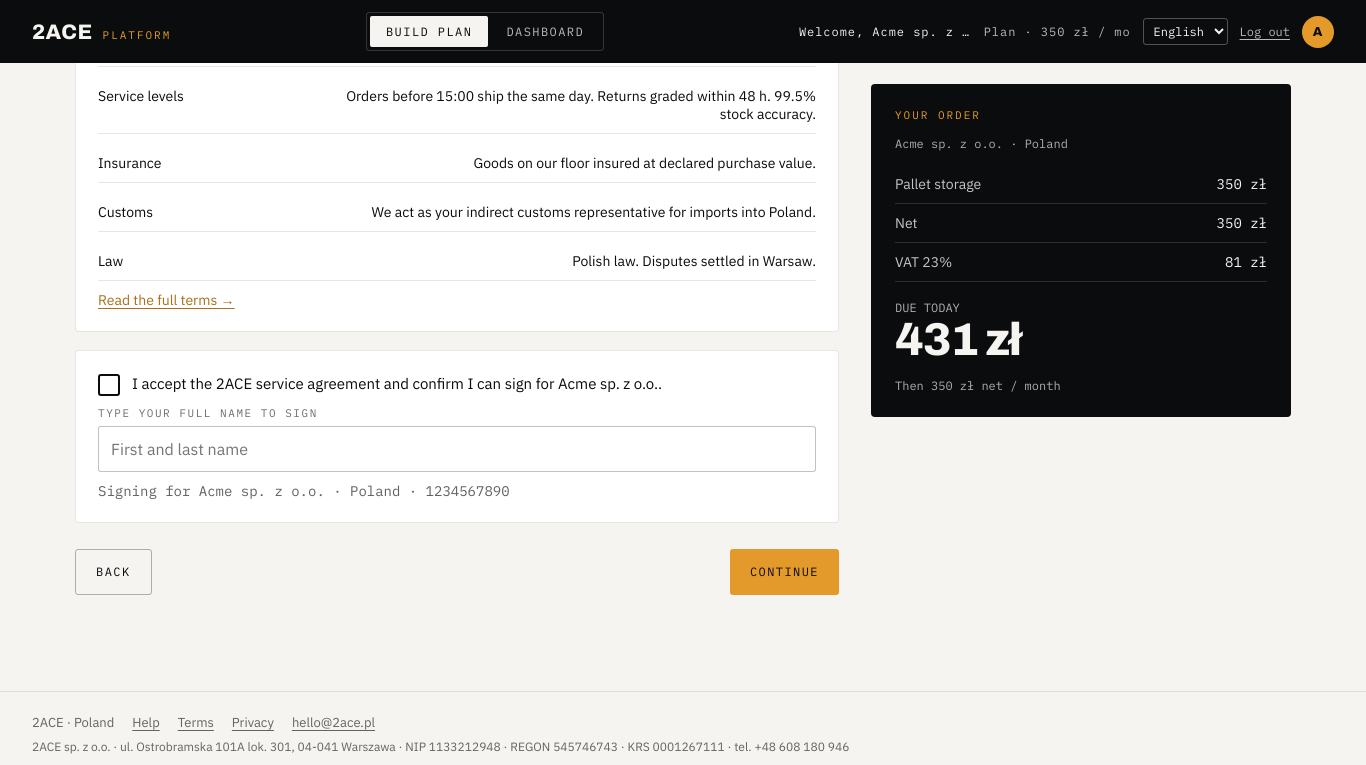
Test: checkout › a 409 from Stripe checkout explains it
(page scrolled)
Click the checkbox at (457, 384), box left=98, top=373, right=816, bottom=396
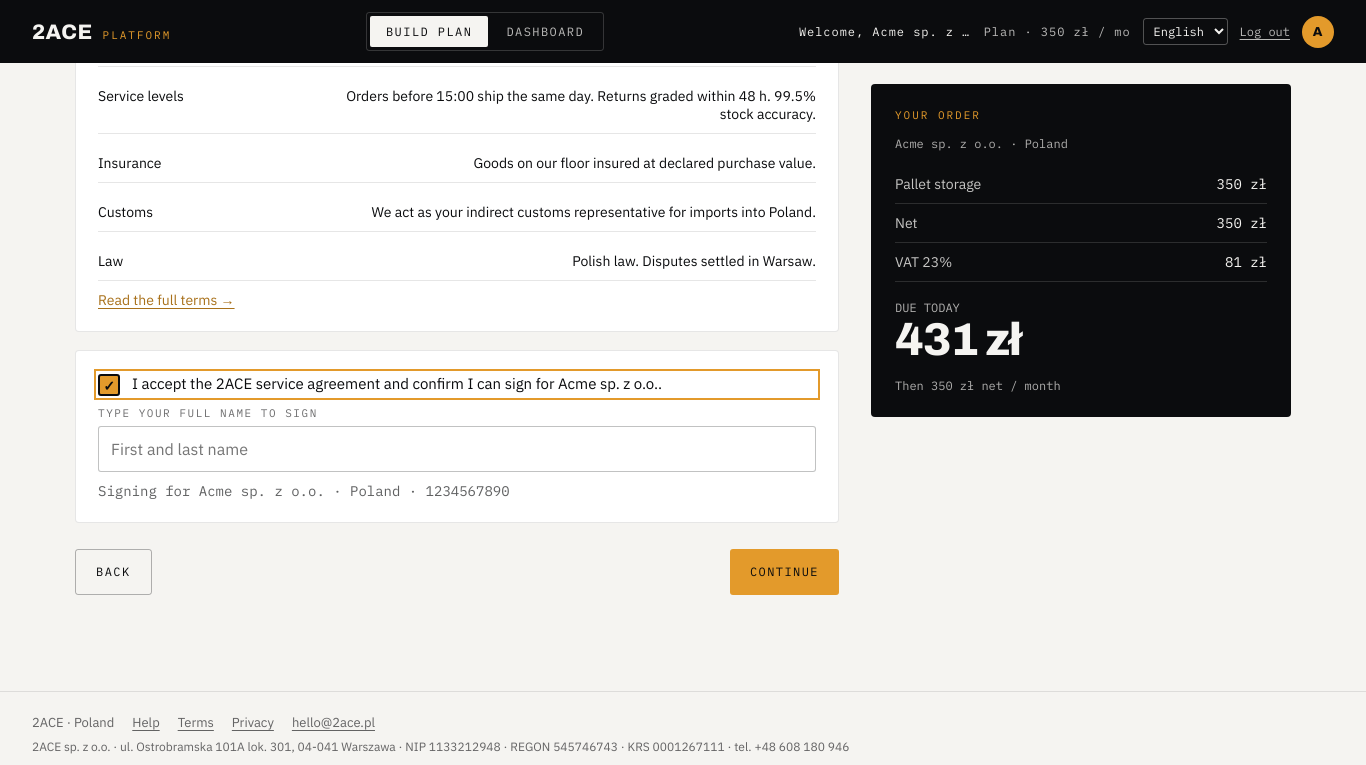
Type "Ola Nowak" into the field labelled "Type your full name to sign" at (457, 449), box left=98, top=426, right=816, bottom=472
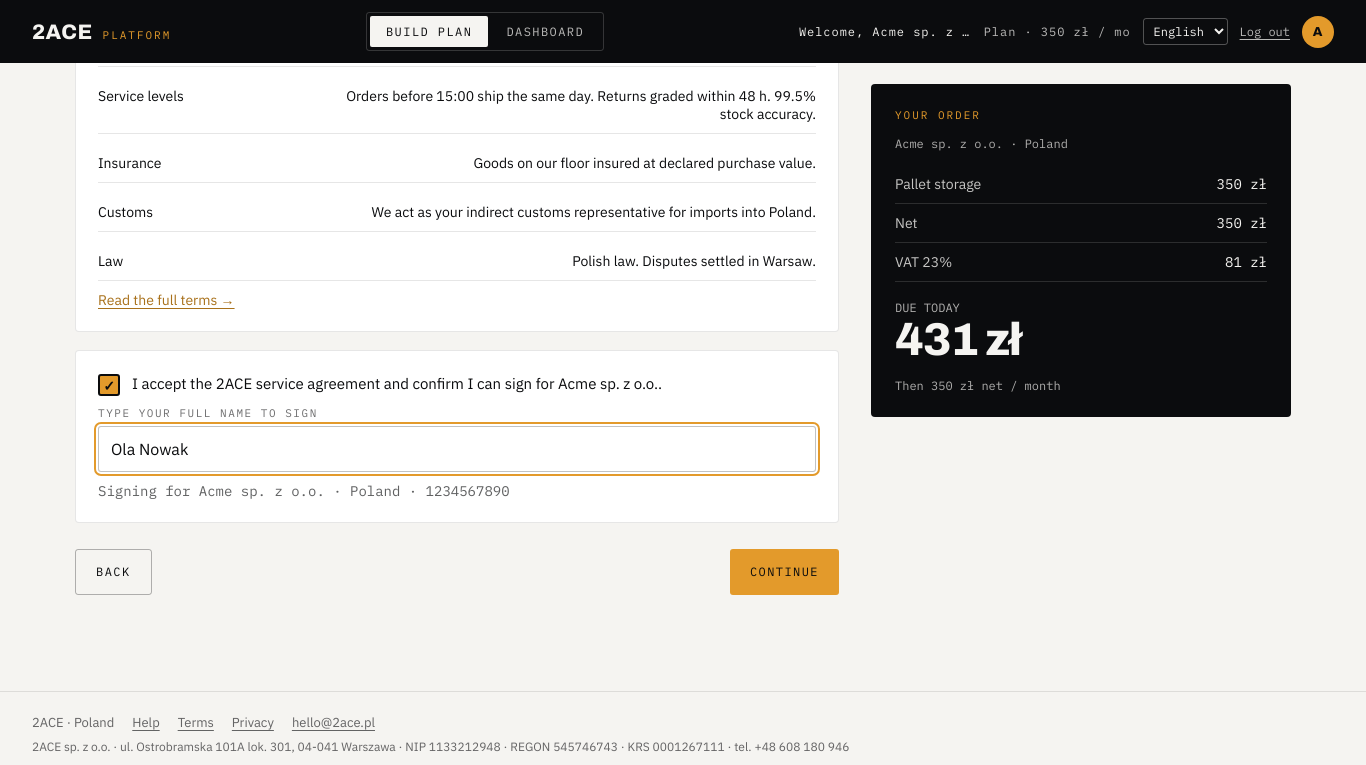
Click the button "Continue" at (784, 572), box left=730, top=549, right=839, bottom=595
(page scrolled)
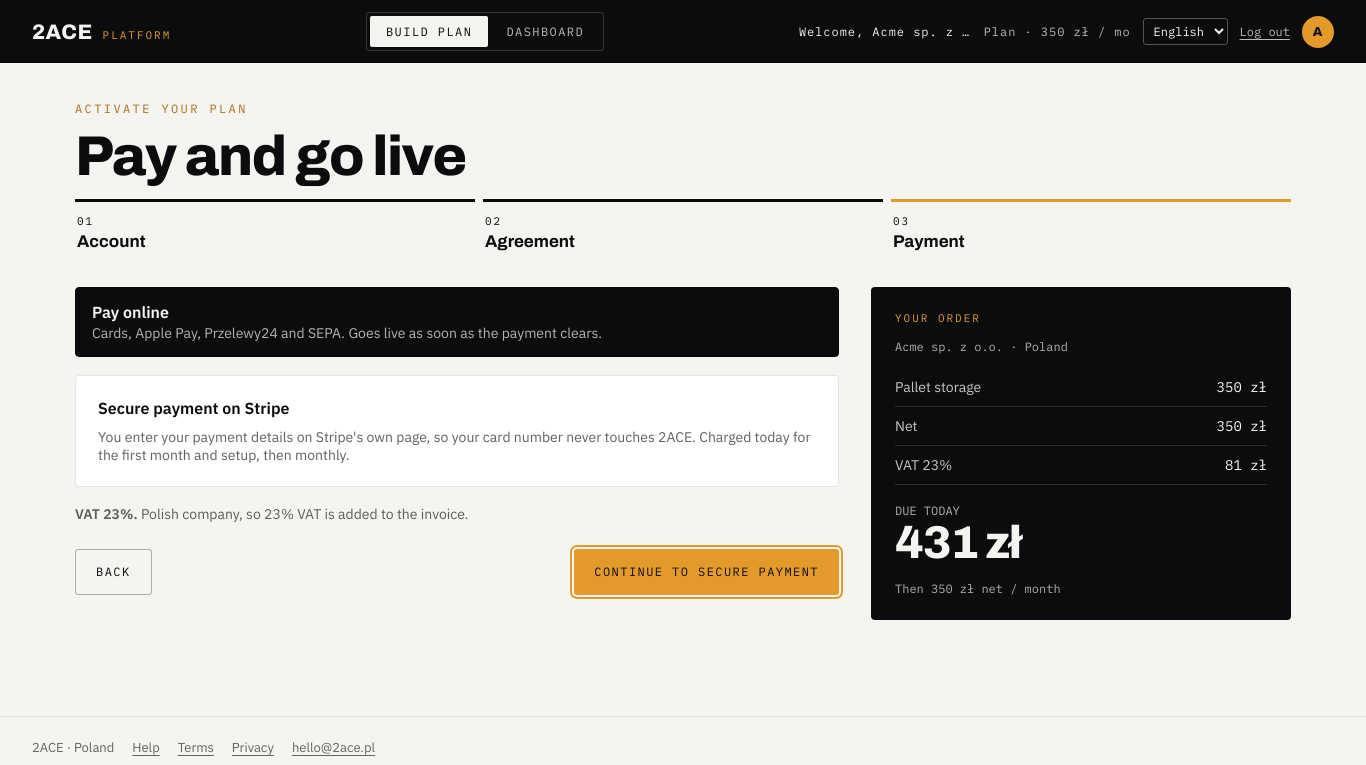
Click the button "Continue to secure payment" at (707, 572), box left=574, top=549, right=839, bottom=595
(page scrolled)
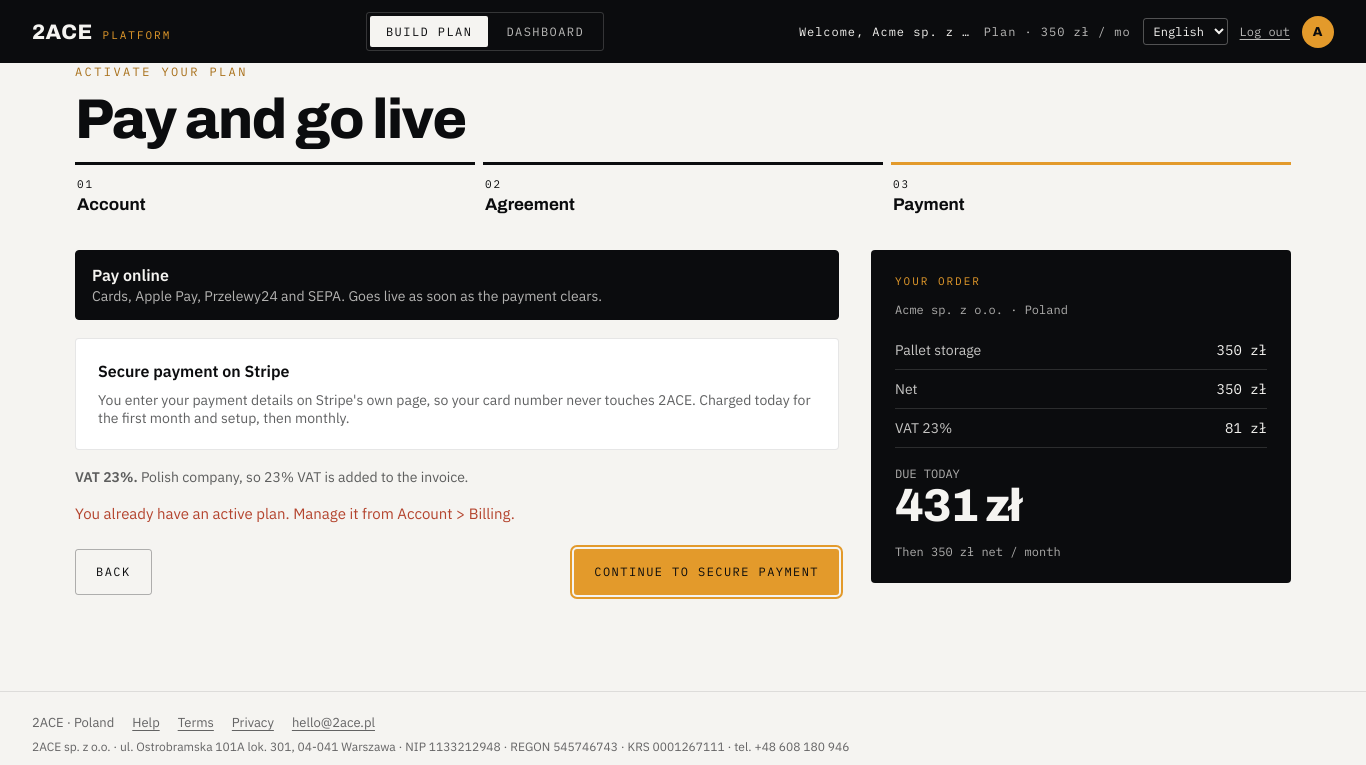
Now the text "You already have an active plan. Manage it from Account > Billing." is shown, box left=75, top=504, right=515, bottom=523
